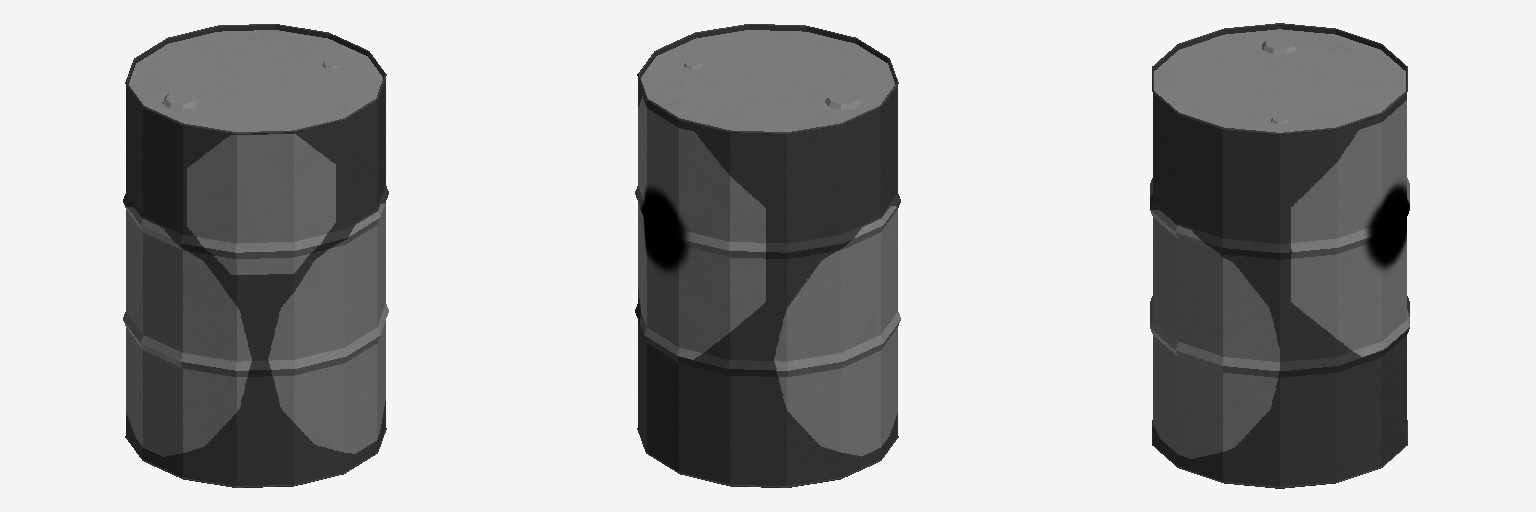
3 views of the same model, side by side, from view 1: azimuth 30°, elevation 25°; view 2: azimuth 150°, elevation 25°; view 3: azimuth 270°, elevation 25° (orthographic).
Parts seen in each view (by area): view 1: metal_barrel; view 2: metal_barrel; view 3: metal_barrel.
Boxes of the visible parts, x1=… form: metal_barrel: x1=123, y1=24, x2=388, y2=487; metal_barrel: x1=635, y1=24, x2=900, y2=487; metal_barrel: x1=1150, y1=23, x2=1409, y2=488.
Size of the model in its own units: 61.5 by 90.43 by 59.96.
Materials: 1 (1 with a texture image).